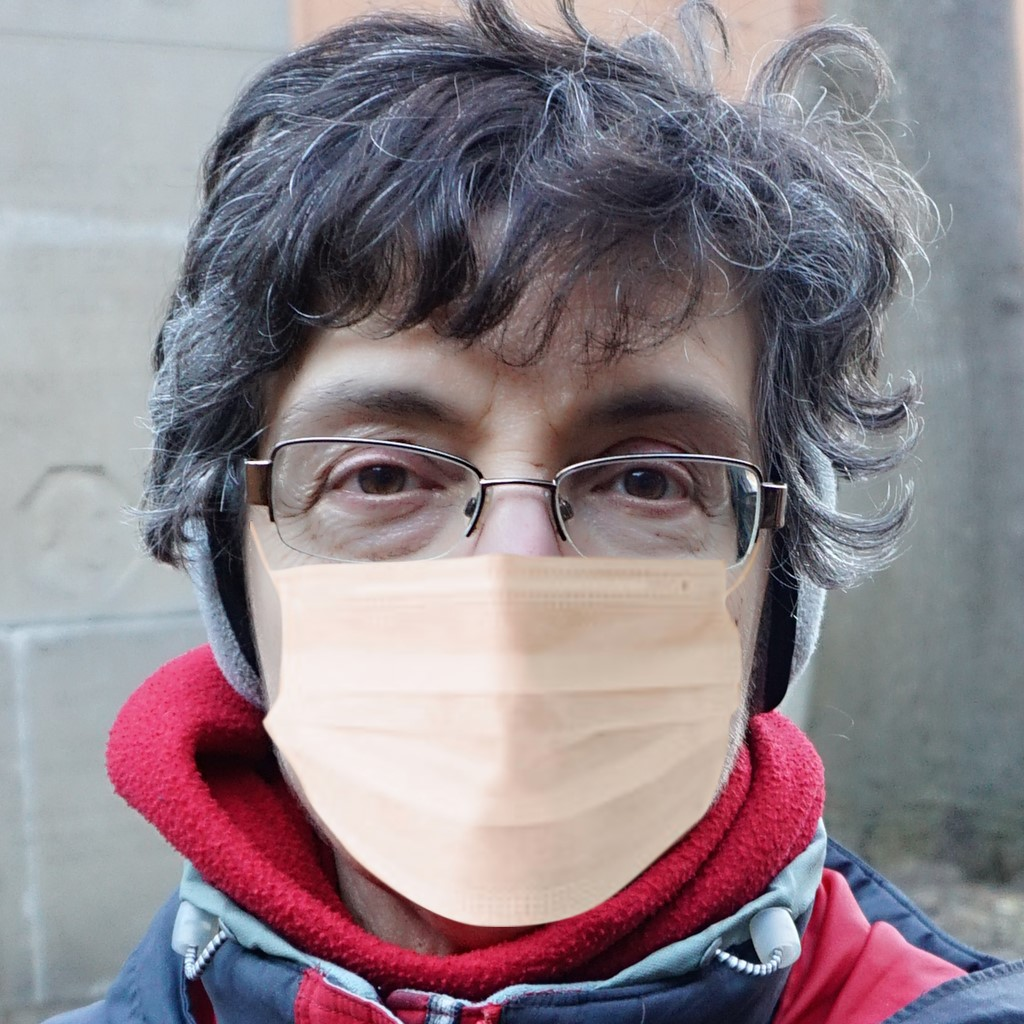con_mascara: (201, 149, 784, 900)
